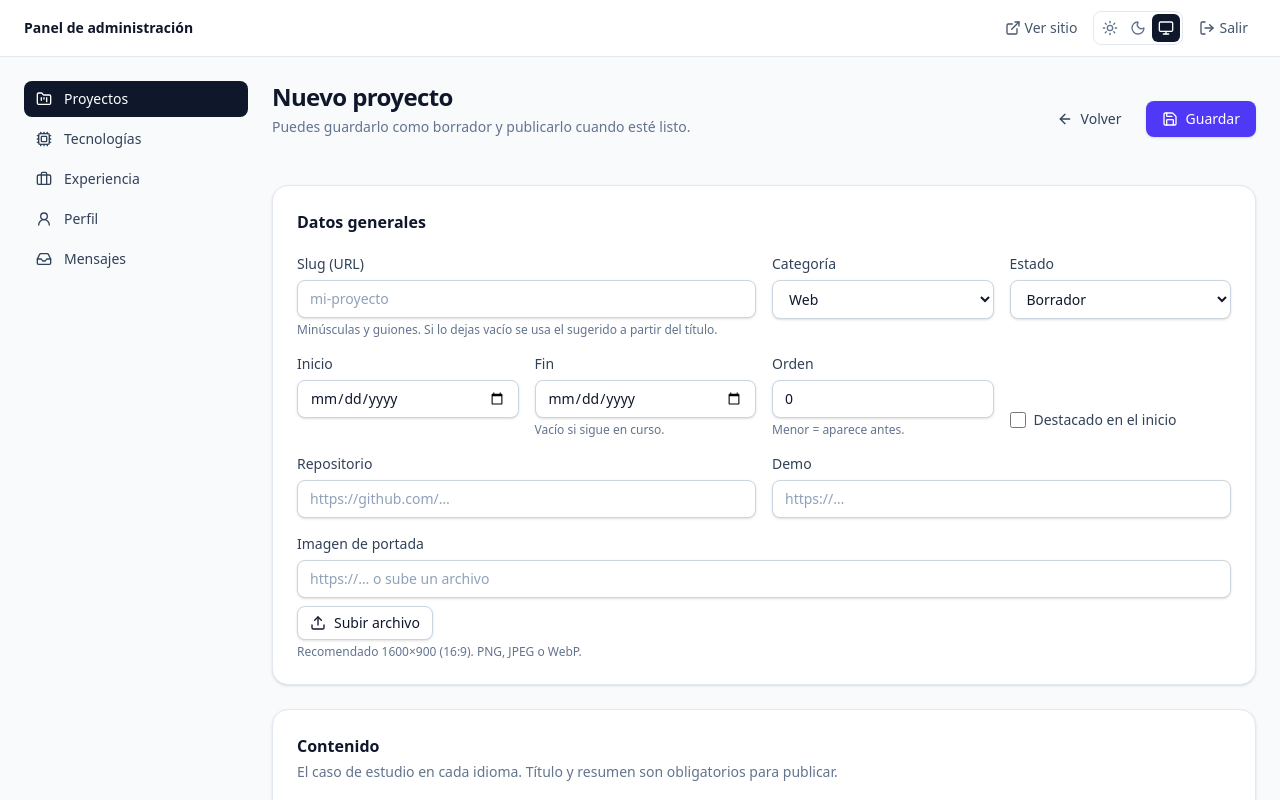
Test: admin panel › lists server validation errors
The image size is (1280, 800).
Click the button "Guardar".
click(1201, 119)  # box [1146,101,1256,137]
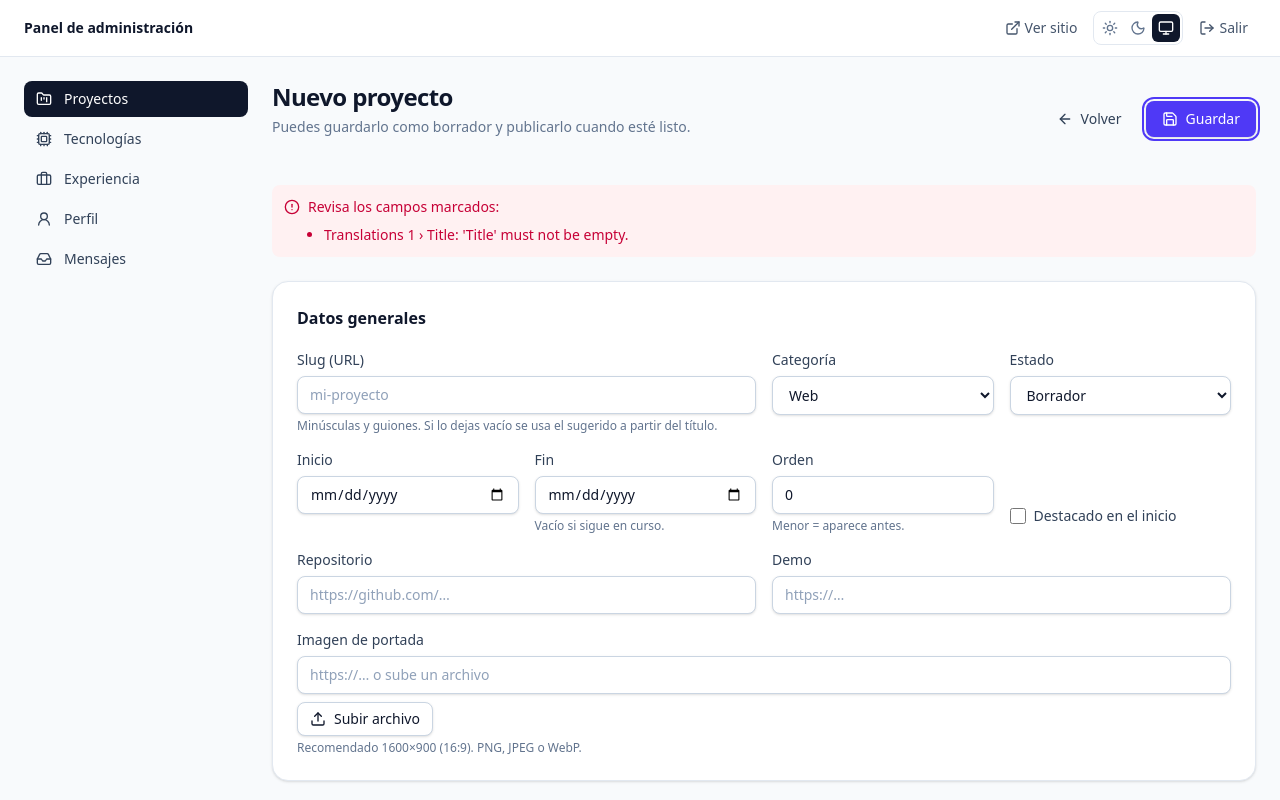
Expected: the message shows "Translations 1 › Title: 'Title' must not be empty.", [324,225,628,244]
